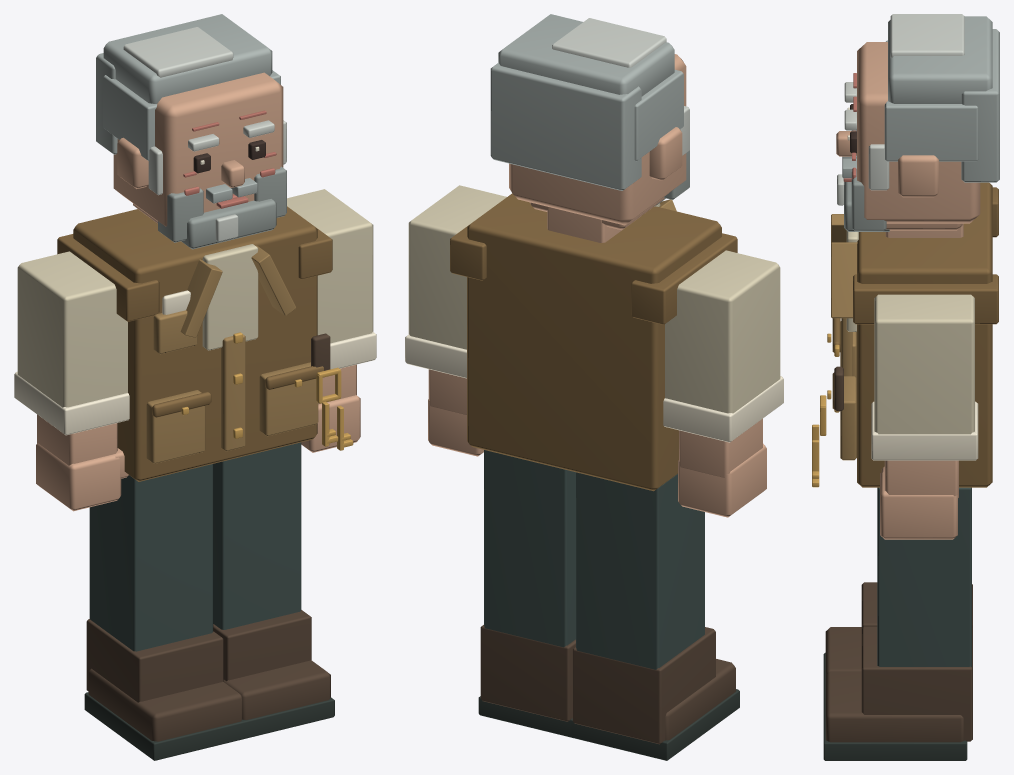
Rendered from beck.glb.
3 renders of one model, left to right at view 1: azimuth 30°, elevation 25°; view 2: azimuth 150°, elevation 25°; view 3: azimuth 270°, elevation 25°, orthographic. The views are drawn at different scales.
Visible parts, largest first — view 1: Beck_Geometry, Beck_Head_Geometry, Beck_LeftLeg_Geometry, Beck_RightLeg_Geometry, Beck_LeftArm_Geometry, Beck_RightArm_Geometry; view 2: Beck_Geometry, Beck_LeftLeg_Geometry, Beck_Head_Geometry, Beck_LeftArm_Geometry, Beck_RightLeg_Geometry, Beck_RightArm_Geometry; view 3: Beck_Head_Geometry, Beck_RightLeg_Geometry, Beck_Geometry, Beck_RightArm_Geometry, Beck_LeftLeg_Geometry.
Boxes of the visible parts, bbox=[...] form: Beck_Geometry: bbox=[57, 206, 353, 481]; Beck_Head_Geometry: bbox=[96, 14, 286, 249]; Beck_LeftLeg_Geometry: bbox=[84, 464, 245, 760]; Beck_RightLeg_Geometry: bbox=[213, 442, 334, 739]; Beck_LeftArm_Geometry: bbox=[14, 251, 129, 511]; Beck_RightArm_Geometry: bbox=[287, 189, 376, 452]; Beck_Geometry: bbox=[450, 193, 737, 491]; Beck_LeftLeg_Geometry: bbox=[571, 472, 739, 760]; Beck_Head_Geometry: bbox=[490, 14, 689, 230]; Beck_LeftArm_Geometry: bbox=[663, 250, 783, 517]; Beck_RightLeg_Geometry: bbox=[478, 450, 575, 738]; Beck_RightArm_Geometry: bbox=[405, 185, 506, 456]; Beck_Head_Geometry: bbox=[836, 14, 999, 231]; Beck_RightLeg_Geometry: bbox=[823, 487, 972, 760]; Beck_Geometry: bbox=[812, 182, 998, 487]; Beck_RightArm_Geometry: bbox=[871, 294, 978, 539]; Beck_LeftLeg_Geometry: bbox=[823, 582, 972, 698].
Size of the model in its own units: 0.902 by 1.81 by 0.457.
